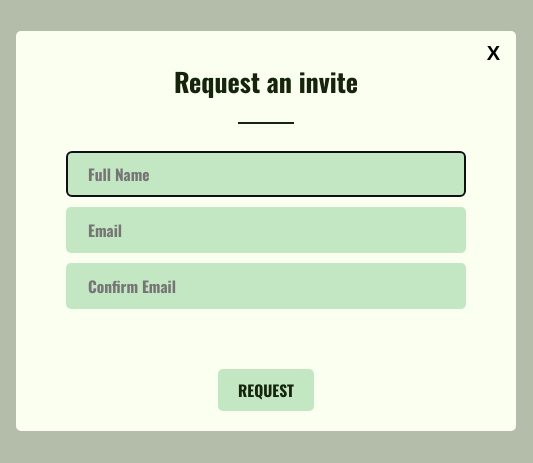
SignUp component › handles API error
Type "John Doe" into the field with placeholder "Full Name" at (266, 174), box [66,150,466,196]
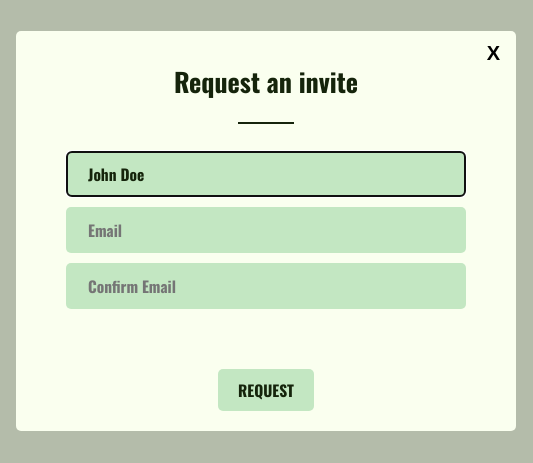
Type "john@example.com" into the field with placeholder "Email" at (266, 230), box [66,206,466,252]
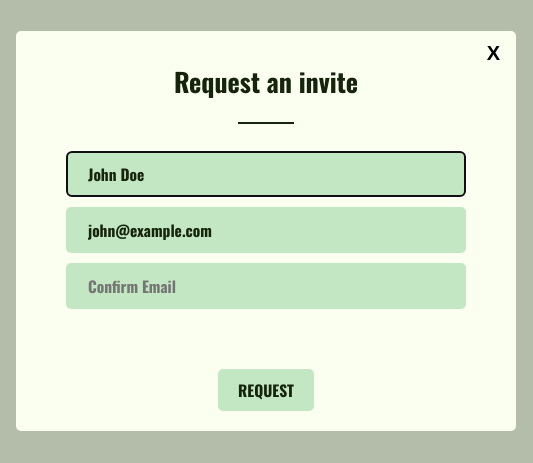
Type "john@example.com" into the field with placeholder "Confirm Email" at (266, 286), box [66,262,466,308]
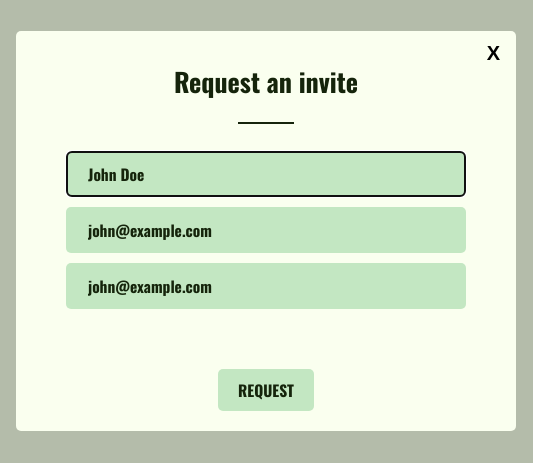
Click the button "Request" at (266, 390), box [218,368,314,410]
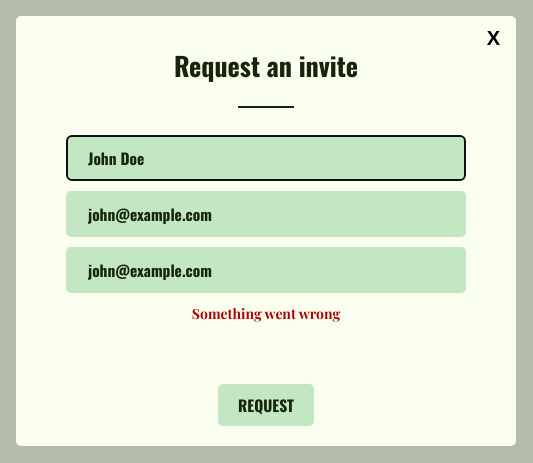
Expected: the text "Something went wrong" is shown, [192,303,340,324]
